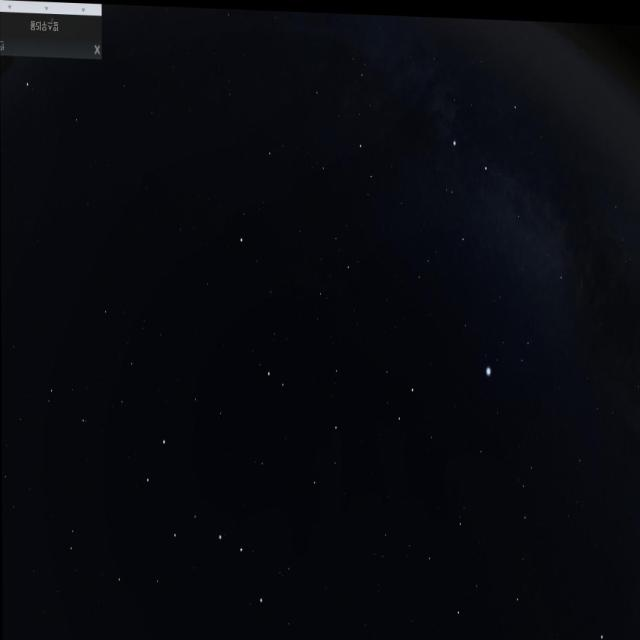cygnus: (432, 87, 578, 302)
lyra: (479, 312, 538, 389)
ursa_major: (132, 422, 283, 610)
